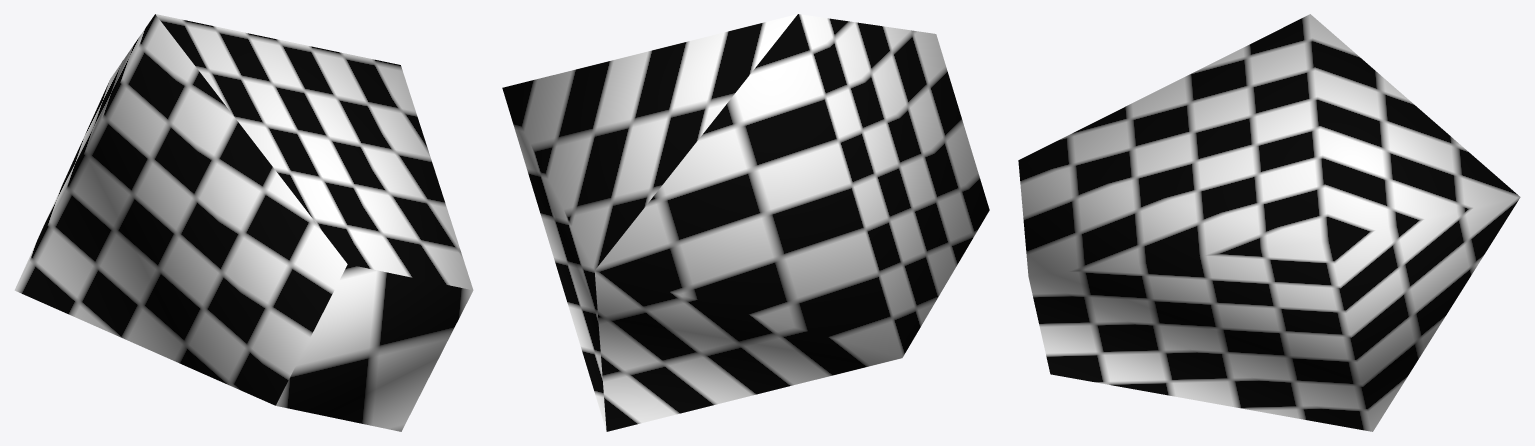
The model's file is initlitr37.dae.
3 renders of one model, left to right at view 1: azimuth 30°, elevation 25°; view 2: azimuth 150°, elevation 25°; view 3: azimuth 270°, elevation 25°, orthographic. The views are drawn at different scales.
Parts seen in each view (by area): view 1: item; view 2: item; view 3: item.
Boxes of the visible parts, bbox=[...] form: item: bbox=[14, 14, 473, 431]; item: bbox=[502, 14, 989, 431]; item: bbox=[1018, 14, 1520, 431].
Size of the model in its own units: 0.7308 by 0.9237 by 0.7217.
Materials: 1 (1 with a texture image).
